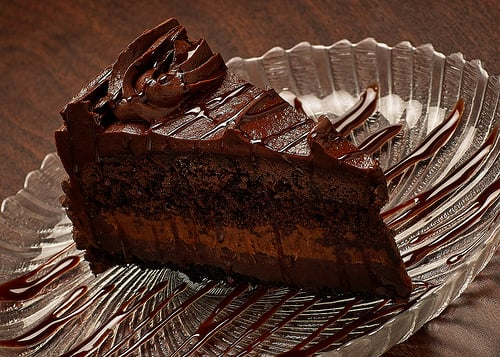sushi: (41, 11, 470, 302)
